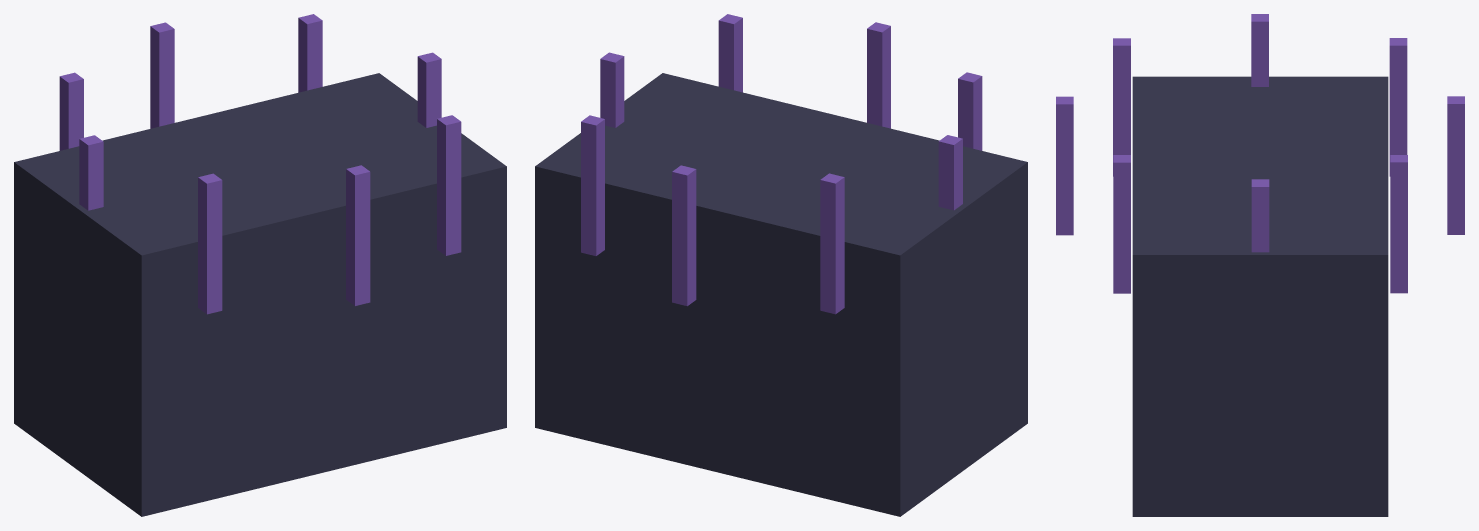
The model's file is boss_final_abyss.glb.
3 renders of one model, left to right at view 1: azimuth 30°, elevation 25°; view 2: azimuth 150°, elevation 25°; view 3: azimuth 270°, elevation 25°, orthographic.
Visible parts, largest first — view 1: geometry_0; view 2: geometry_0; view 3: geometry_0.
Part boxes in pixels (box(x1,y1,x2,y2)): geometry_0: box(14, 14, 506, 516); geometry_0: box(535, 14, 1027, 516); geometry_0: box(1056, 14, 1464, 516).
Bounding box in the file's own units: 1.9 × 1.62 × 1.84.
